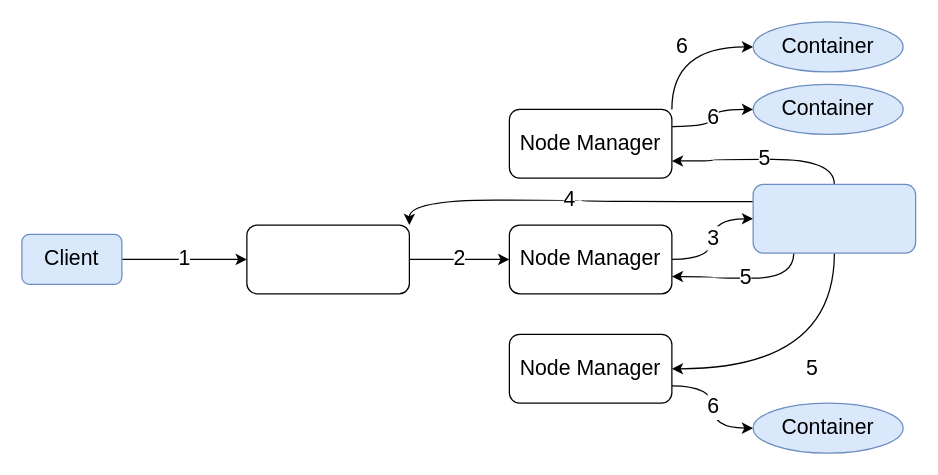
Image size: 938x475. Some labels were removed from this diagram. Each missing label, with the centre of its shape:
"Application Master" belongs at (x=834, y=218).
"Resource Manager" belongs at (x=327, y=259).
